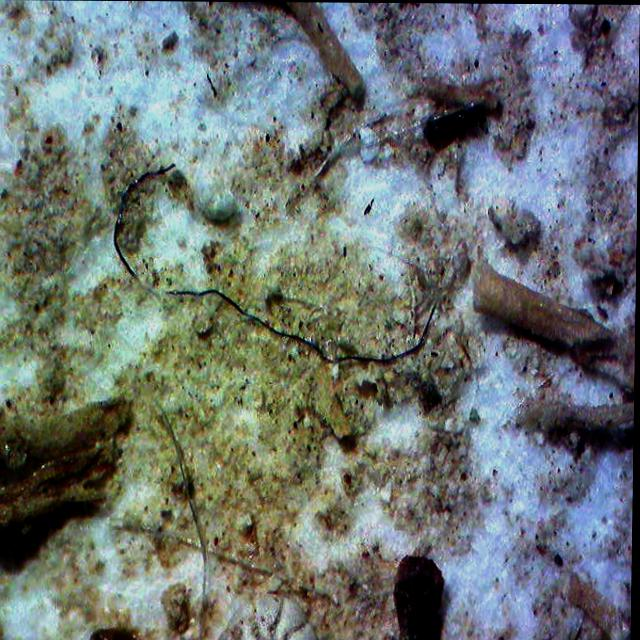microplastic: (88, 149, 443, 419)
